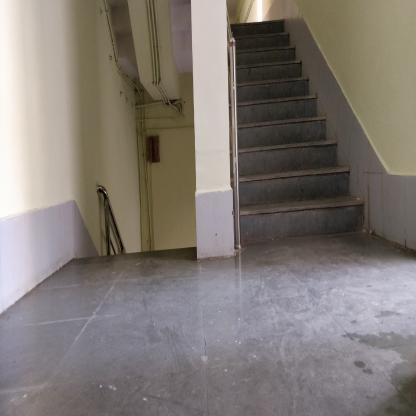stairs: (242, 30, 295, 245)
